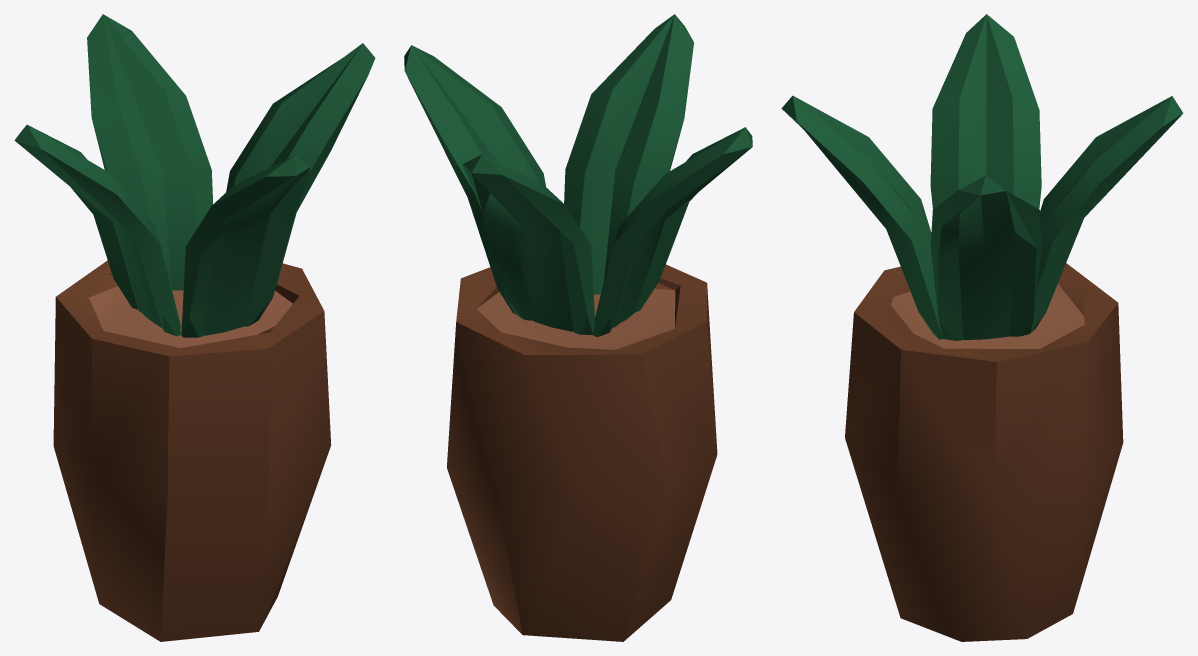
The model's file is plantenpot.fbx.
3 views of the same model, side by side, from view 1: azimuth 30°, elevation 25°; view 2: azimuth 150°, elevation 25°; view 3: azimuth 270°, elevation 25° (orthographic).
Parts seen in each view (by area): view 1: Cylinder, Plane.003; view 2: Cylinder, Plane.003; view 3: Cylinder, Plane.003.
Part boxes in pixels (x1,y1,x2,y2): Cylinder: [53, 260, 331, 641]; Plane.003: [14, 14, 375, 337]; Cylinder: [447, 264, 717, 641]; Plane.003: [404, 14, 752, 336]; Cylinder: [845, 263, 1123, 641]; Plane.003: [781, 14, 1183, 340].
Bounding box in the file's own units: 318 × 446 × 316.
